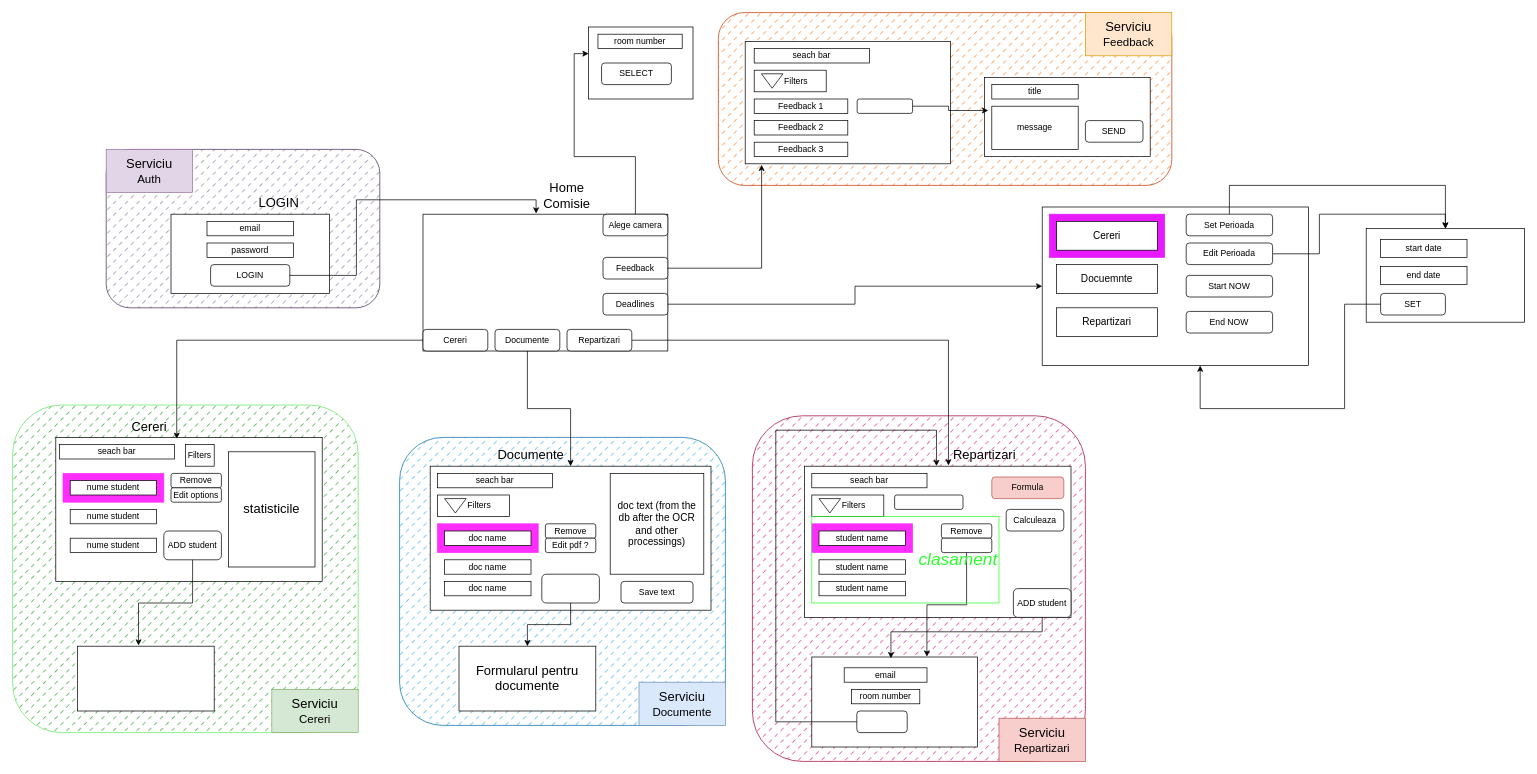
The diagram is 1537 pixels wide and 774 high, and some of its shapes have lost their labels. Each missing label, with the centre of its shape:
"ADD" goes at [881,721].
"ADD document" goes at [570,588].
"Edit rez" goes at [966,545].
"Formularul pentru cerere" goes at [145,678].
"Respond" goes at [884,105].
"sttudents/rooms" goes at [928,501].
